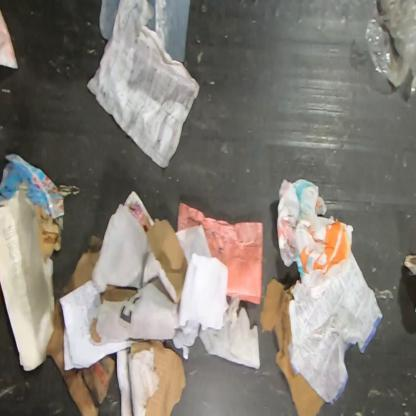cardboard: (46, 235, 118, 415), (90, 218, 188, 347), (258, 276, 326, 416), (127, 341, 187, 415)
soft_plastic: (99, 0, 192, 63), (364, 0, 415, 99)
